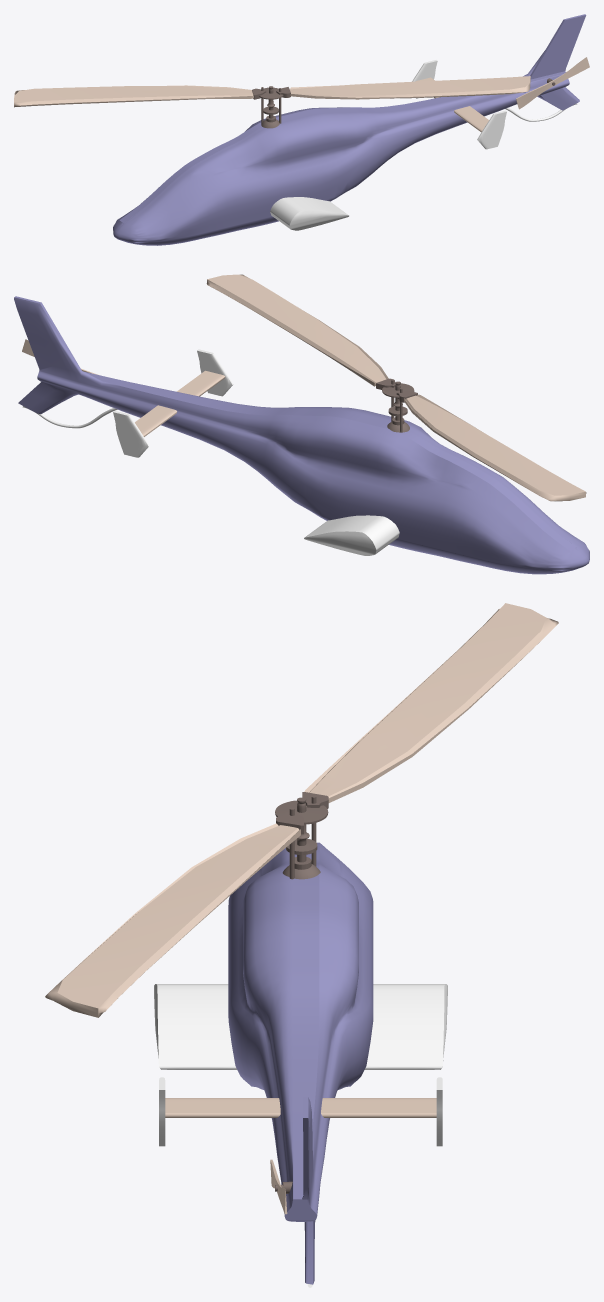
File: heli_222_real.glb
3 renders of one model, top to bottom at view 1: azimuth 30°, elevation 25°; view 2: azimuth 150°, elevation 25°; view 3: azimuth 270°, elevation 25°, orthographic. The views are drawn at different scales.
Visible parts, largest first — view 1: Cylinder01, mainrotor_blade_Cylinder01_07 - Default_0.028, mainrotor_blade_Cylinder01_07 - Default_0.022, tailrotor_Cylinder01_01 - Default_0, mainrotor_blade_Cylinder01_07 - Default_0.031, mainrotor_hub_Cylinder01_03 - Default_0, mainrotor_blade_Cylinder01_07 - Default_0.029, tailrotor_Cylinder01_07 - Default_0, mainrotor_blade_Cylinder01_07 - Default_0.025; view 2: Cylinder01, mainrotor_blade_Cylinder01_07 - Default_0.028, mainrotor_blade_Cylinder01_07 - Default_0.022, mainrotor_hub_Cylinder01_03 - Default_0, mainrotor_blade_Cylinder01_07 - Default_0.023, mainrotor_blade_Cylinder01_07 - Default_0.030; view 3: Cylinder01, mainrotor_blade_Cylinder01_07 - Default_0.022, mainrotor_blade_Cylinder01_07 - Default_0.028, mainrotor_hub_Cylinder01_03 - Default_0, mainrotor_blade_Cylinder01_07 - Default_0.030, tailrotor_Cylinder01_01 - Default_0, mainrotor_blade_Cylinder01_07 - Default_0.023, mainrotor_blade_Cylinder01_07 - Default_0.029.
Boxes of the visible parts, x1,y1,x2,y2 form: Cylinder01: [113, 51, 576, 245]; mainrotor_blade_Cylinder01_07 - Default_0.028: [289, 76, 530, 95]; mainrotor_blade_Cylinder01_07 - Default_0.022: [14, 85, 253, 102]; tailrotor_Cylinder01_01 - Default_0: [530, 14, 586, 110]; mainrotor_blade_Cylinder01_07 - Default_0.031: [14, 95, 253, 107]; mainrotor_hub_Cylinder01_03 - Default_0: [252, 86, 290, 128]; mainrotor_blade_Cylinder01_07 - Default_0.029: [291, 78, 530, 98]; tailrotor_Cylinder01_07 - Default_0: [516, 57, 589, 109]; mainrotor_blade_Cylinder01_07 - Default_0.025: [290, 93, 505, 99]; Cylinder01: [14, 297, 589, 574]; mainrotor_blade_Cylinder01_07 - Default_0.028: [207, 274, 385, 382]; mainrotor_blade_Cylinder01_07 - Default_0.022: [406, 395, 585, 495]; mainrotor_hub_Cylinder01_03 - Default_0: [376, 378, 417, 432]; mainrotor_blade_Cylinder01_07 - Default_0.023: [404, 398, 585, 501]; mainrotor_blade_Cylinder01_07 - Default_0.030: [206, 279, 376, 383]; Cylinder01: [154, 842, 447, 1287]; mainrotor_blade_Cylinder01_07 - Default_0.022: [309, 603, 545, 796]; mainrotor_blade_Cylinder01_07 - Default_0.028: [57, 825, 297, 1008]; mainrotor_hub_Cylinder01_03 - Default_0: [275, 792, 328, 879]; mainrotor_blade_Cylinder01_07 - Default_0.030: [98, 828, 299, 1017]; tailrotor_Cylinder01_01 - Default_0: [284, 1097, 316, 1284]; mainrotor_blade_Cylinder01_07 - Default_0.023: [328, 617, 558, 797]; mainrotor_blade_Cylinder01_07 - Default_0.029: [45, 823, 278, 1017].
Size of the model in its own units: 0.7586 by 0.1754 by 0.3239.
